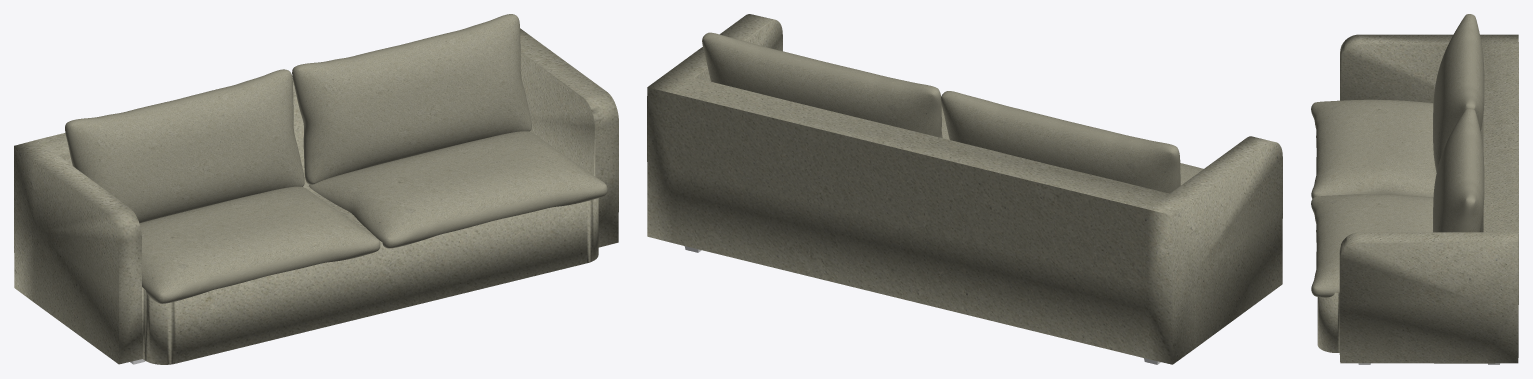
Rendered from modern_sofa_3d_exp-v1.glb.
3 views of the same model, side by side, from view 1: azimuth 30°, elevation 25°; view 2: azimuth 150°, elevation 25°; view 3: azimuth 270°, elevation 25° (orthographic). The views are drawn at different scales.
Visible parts, largest first — view 1: object 1; view 2: object 1; view 3: object 1.
Part boxes in pixels (x1,y1,x2,y2): object 1: (14, 14, 618, 364); object 1: (647, 14, 1282, 364); object 1: (1311, 14, 1518, 363).
Bounding box in the file's own units: 2.2 × 0.817 × 0.928.
Materials: 2 (1 with a texture image).
